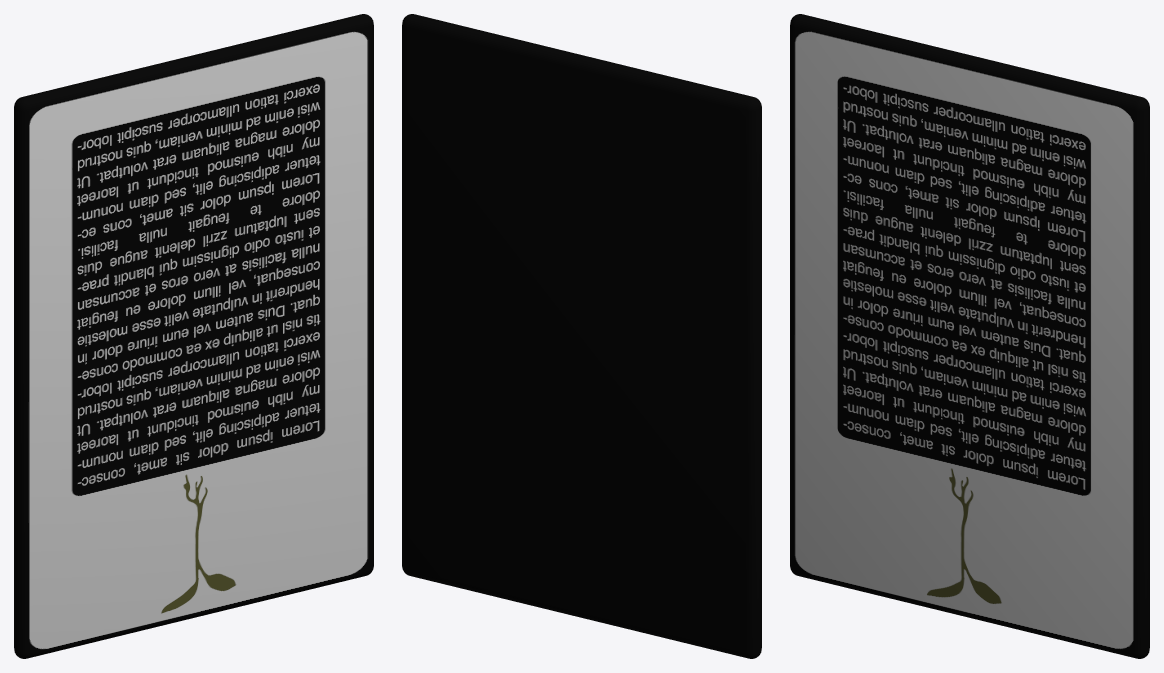
Rendered from RawGardenInfo.gltf.
The picture shows the model from 3 angles, left to right: view 1: azimuth 30°, elevation 25°; view 2: azimuth 150°, elevation 25°; view 3: azimuth 330°, elevation 25°; orthographic projection.
Visible parts, largest first — view 1: Cube; view 2: Cube; view 3: Cube.
Boxes of the visible parts, box(x1,y1,x2,y2) form: Cube: box(14, 14, 373, 658); Cube: box(402, 14, 761, 658); Cube: box(790, 14, 1149, 658).
Bounding box in the file's own units: 10 × 15 × 0.5.
1 material, 1 textured.
